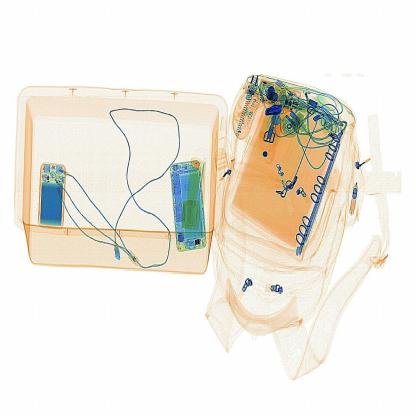knife: (259, 98, 285, 127)
